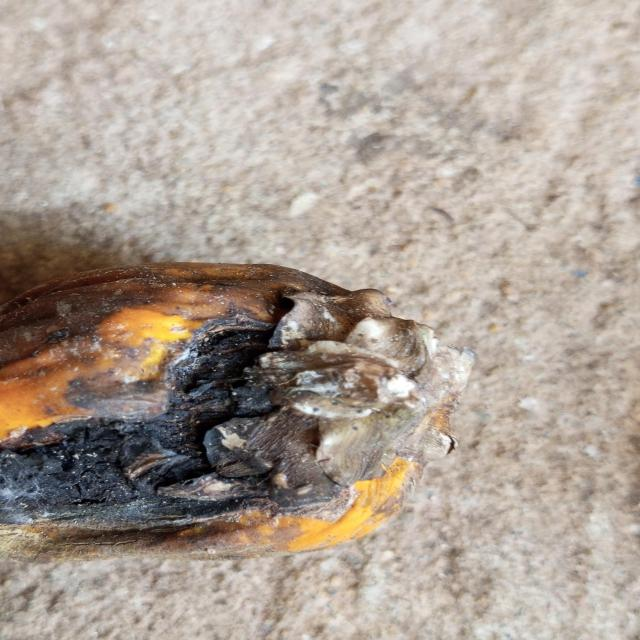damaged: (0, 263, 474, 551)
